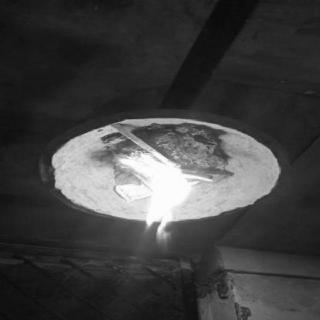Fire: (110, 154, 214, 252)
